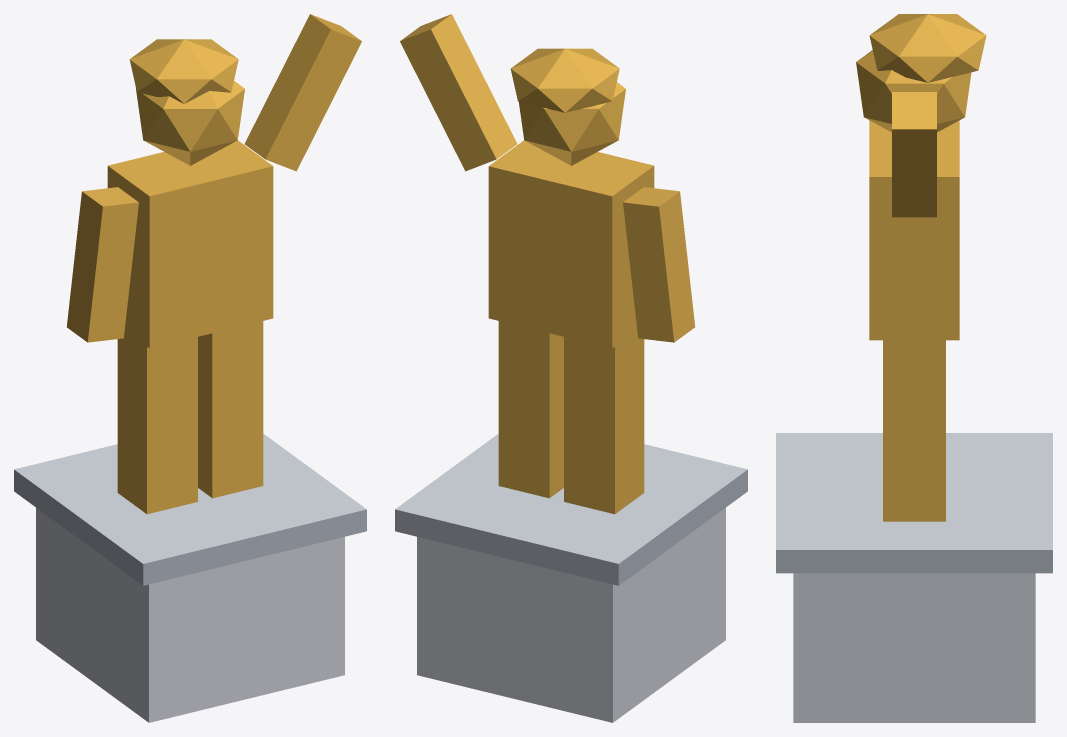
Rendered from prop_statue.glb.
The picture shows the model from 3 angles, left to right: view 1: azimuth 30°, elevation 25°; view 2: azimuth 150°, elevation 25°; view 3: azimuth 270°, elevation 25°; orthographic projection. The views are drawn at different scales.
Parts seen in each view (by area): view 1: prop_statue; view 2: prop_statue; view 3: prop_statue.
Boxes of the visible parts, bbox=[...] form: prop_statue: bbox=[14, 14, 366, 722]; prop_statue: bbox=[395, 14, 747, 722]; prop_statue: bbox=[776, 14, 1052, 722].
Bounding box in the file's own units: 0.1963 × 0.4192 × 0.16.
